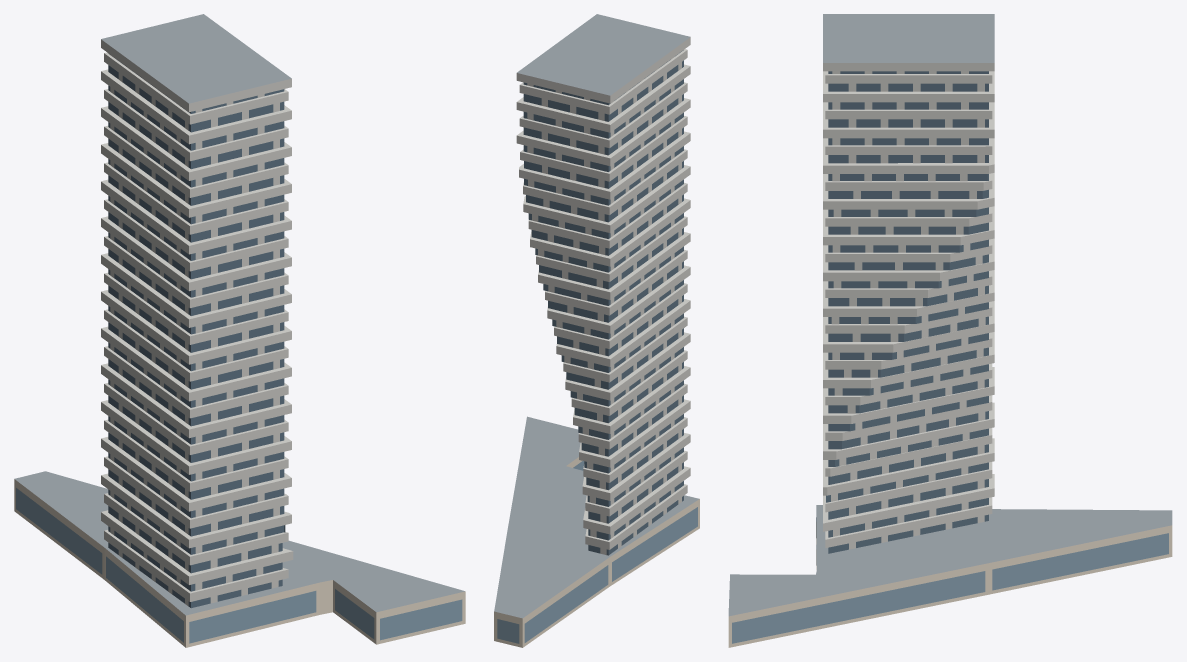
Rendered from van-vancouver-house.glb.
3 renders of one model, left to right at view 1: azimuth 30°, elevation 25°; view 2: azimuth 150°, elevation 25°; view 3: azimuth 270°, elevation 25°, orthographic. The views are drawn at different scales.
Parts seen in each view (by area): view 1: Vancouver House; view 2: Vancouver House; view 3: Vancouver House.
Part boxes in pixels (x1,y1,x2,y2): Vancouver House: (14,14,465,647); Vancouver House: (494,14,699,647); Vancouver House: (728,14,1172,647).
Bounding box in the file's own units: 68.2 × 150 × 115.
